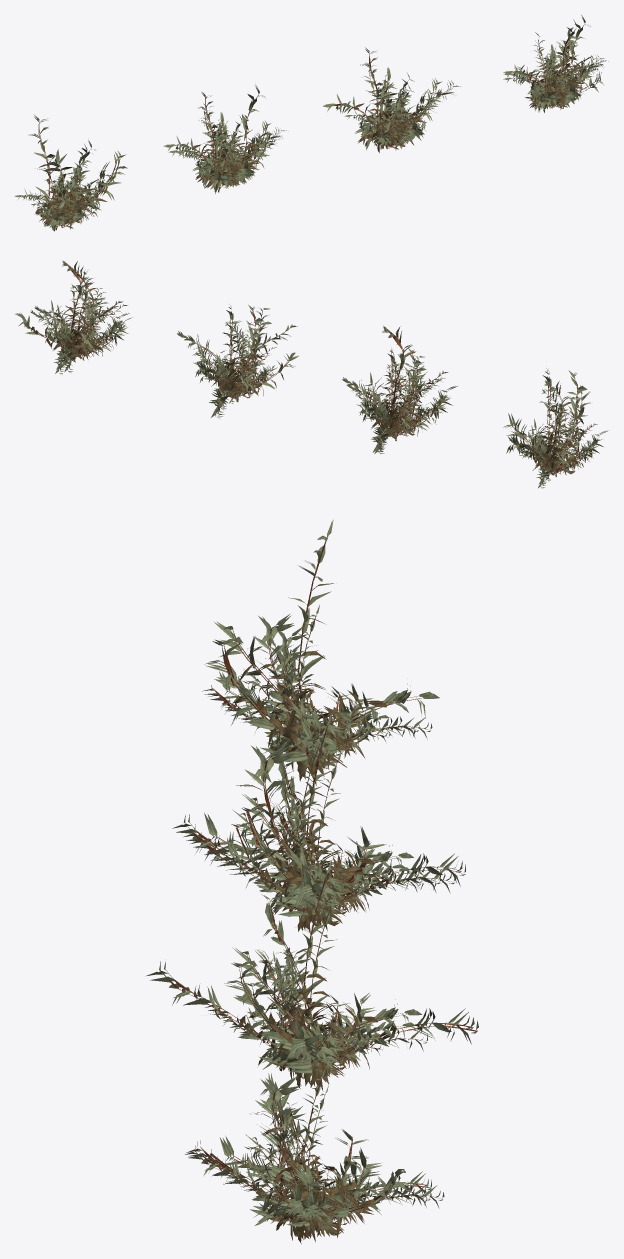
Rendered from shrub_02_lod.glb.
The picture shows the model from 3 angles, top to bottom: view 1: azimuth 30°, elevation 25°; view 2: azimuth 150°, elevation 25°; view 3: azimuth 270°, elevation 25°; orthographic projection. The views are drawn at different scales.
Visible parts, largest first — view 1: shrub_02_b, shrub_02_c, shrub_02_a, shrub_02_d; view 2: shrub_02_b, shrub_02_a, shrub_02_c, shrub_02_d; view 3: shrub_02_b, shrub_02_c, shrub_02_a, shrub_02_d.
Boxes of the visible parts, <box> form: shrub_02_b: <box>163,85,286,193</box>; shrub_02_c: <box>323,47,460,152</box>; shrub_02_a: <box>14,115,127,231</box>; shrub_02_d: <box>503,15,608,112</box>; shrub_02_b: <box>342,326,457,453</box>; shrub_02_a: <box>503,368,607,488</box>; shrub_02_c: <box>177,304,298,418</box>; shrub_02_d: <box>15,260,131,373</box>; shrub_02_b: <box>172,713,465,933</box>; shrub_02_c: <box>145,859,478,1091</box>; shrub_02_a: <box>202,519,439,785</box>; shrub_02_d: <box>185,1068,444,1243</box>.
Bounding box in the file's own units: 8.85 × 1.7 × 2.28.
Materials: 1 (1 with a texture image).
